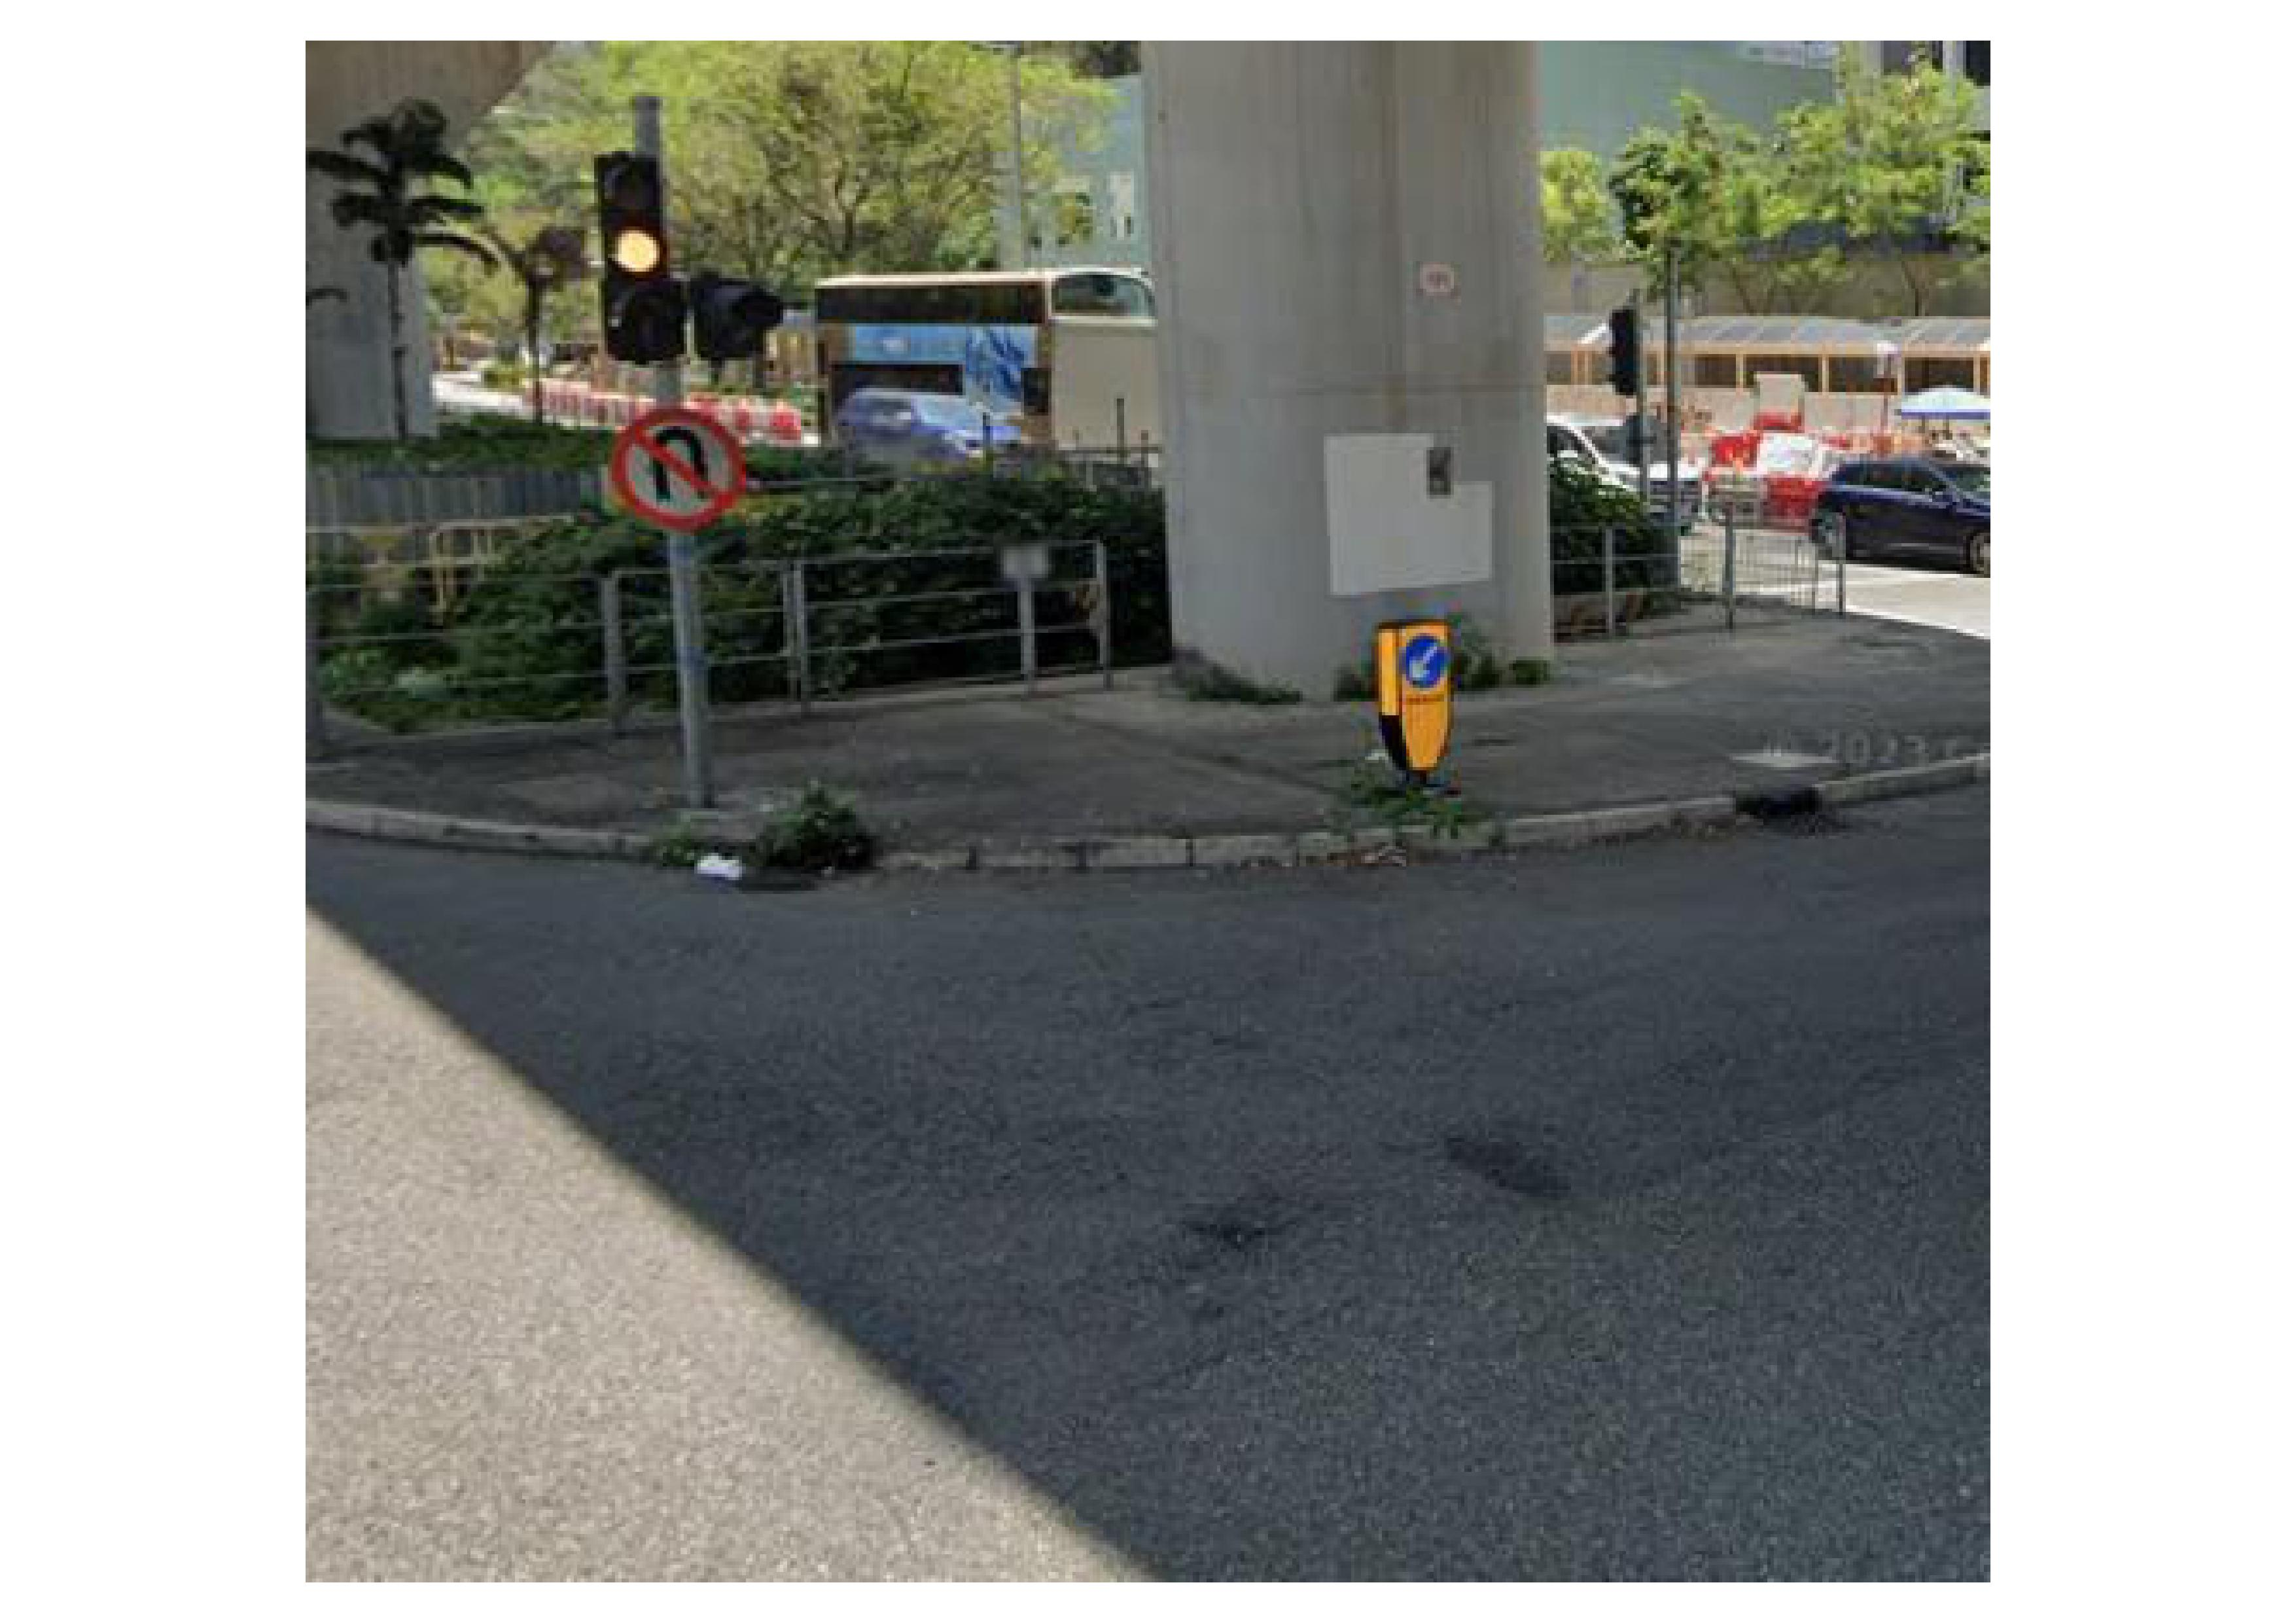No Uturn: (614, 399, 753, 536)
